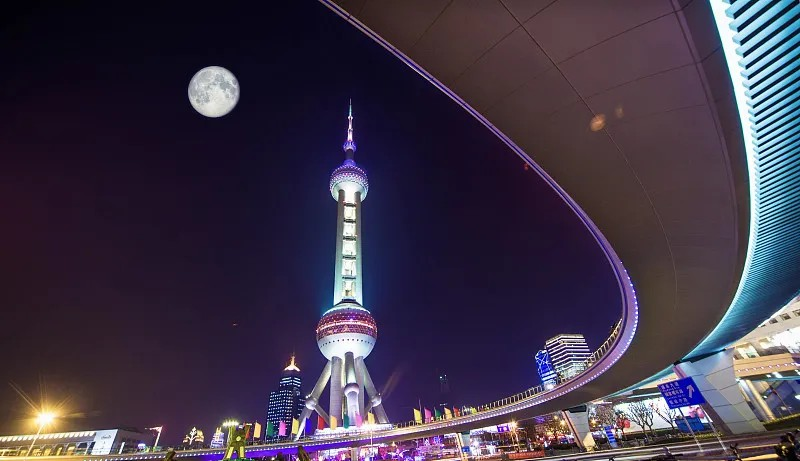Oriental: (297, 99, 389, 439)
